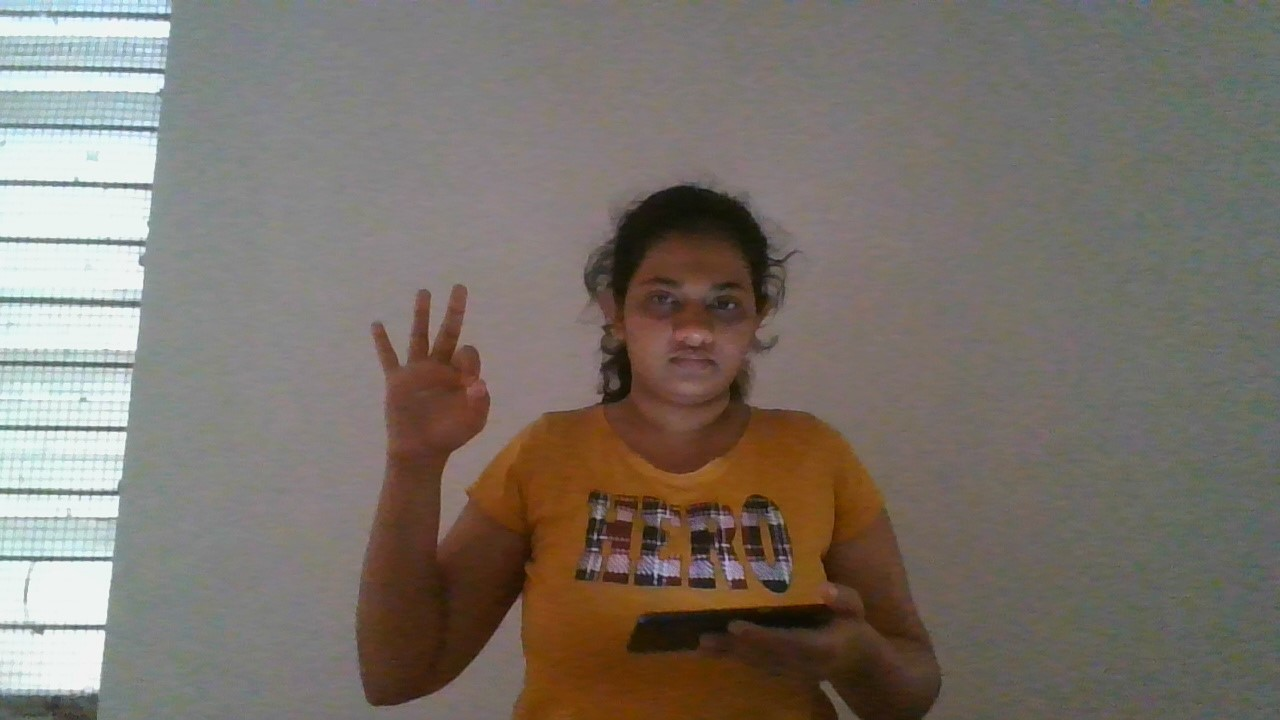f: (354, 276, 499, 475)
